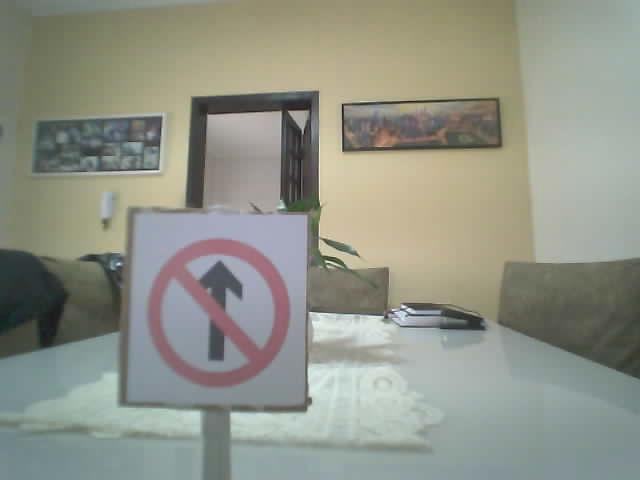R-3_sentido-proibido: (146, 236, 292, 387)
